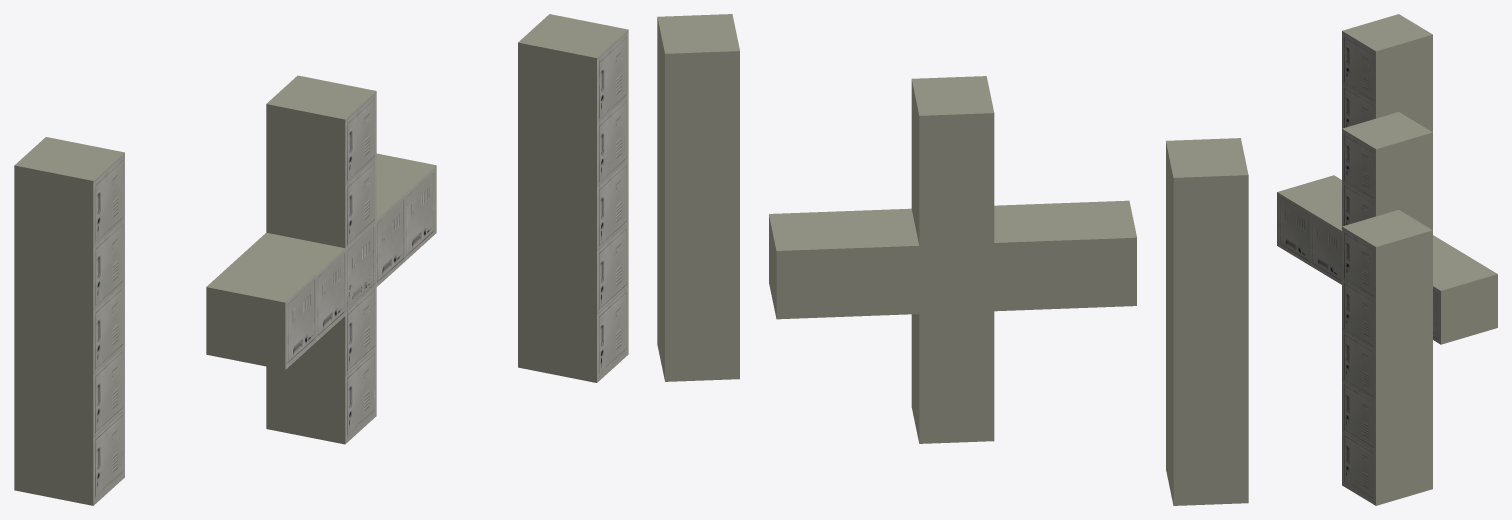
The picture shows the model from 3 angles, left to right: view 1: azimuth 30°, elevation 25°; view 2: azimuth 150°, elevation 25°; view 3: azimuth 270°, elevation 25°; orthographic projection. The views are drawn at different scales.
Visible parts, largest first — view 1: 立方体.003, 立方体.001, 立方体.002; view 2: 立方体.003, 立方体.001, 立方体.002; view 3: 立方体.002, 立方体.003, 立方体.001.
Boxes of the visible parts, x1,y1,x2,y2 form: 立方体.003: (206, 75, 436, 444); 立方体.001: (14, 137, 124, 505); 立方体.002: (518, 14, 628, 382); 立方体.003: (769, 76, 1136, 443); 立方体.001: (1166, 138, 1248, 505); 立方体.002: (657, 14, 739, 381); 立方体.002: (1342, 210, 1432, 505); 立方体.003: (1277, 112, 1497, 344); 立方体.001: (1342, 14, 1432, 131).
Bounding box in the file's own units: 3.57 × 1.85 × 1.43.
Materials: 8 (4 with a texture image).
